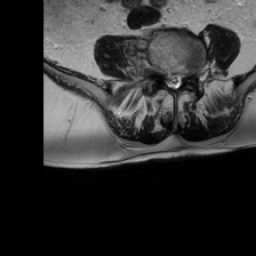CCS_stenosis: (170, 68, 176, 92)
LFS_severe_stenosis: (183, 63, 190, 81)
LLS_normal: (176, 69, 183, 89)
RFS_severe_stenosis: (156, 59, 163, 80)
RLS_normal: (163, 68, 170, 88)
